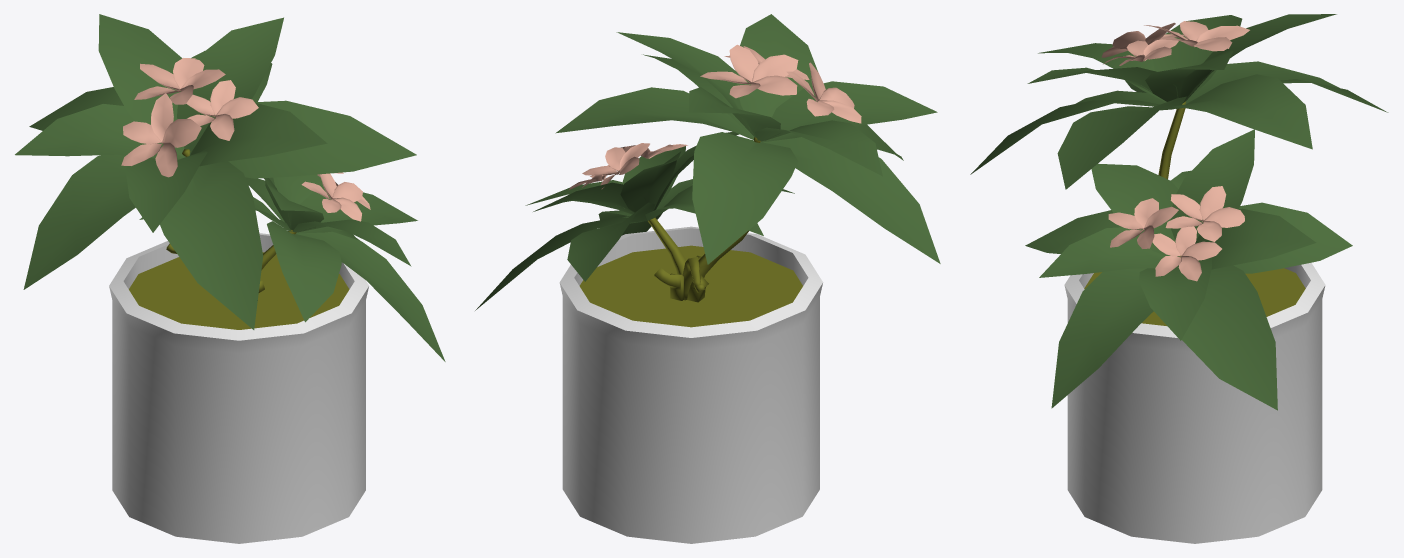
The model's file is plant2.glb.
3 views of the same model, side by side, from view 1: azimuth 30°, elevation 25°; view 2: azimuth 150°, elevation 25°; view 3: azimuth 270°, elevation 25° (orthographic).
Parts seen in each view (by area): view 1: Object_5, Object_4, Object_6, Object_3; view 2: Object_4, Object_5, Object_3, Object_6, Object_2; view 3: Object_5, Object_4, Object_6, Object_3, Object_2.
Boxes of the visible parts, <box> form: Object_5: <box>15,14,445,361</box>; Object_4: <box>109,233,368,543</box>; Object_6: <box>121,58,370,221</box>; Object_3: <box>129,252,349,329</box>; Object_4: <box>559,226,822,543</box>; Object_5: <box>475,14,940,310</box>; Object_3: <box>579,245,802,327</box>; Object_6: <box>569,44,861,189</box>; Object_2: <box>648,137,760,302</box>; Object_5: <box>970,14,1388,410</box>; Object_4: <box>1064,262,1325,543</box>; Object_6: <box>1101,21,1249,281</box>; Object_3: <box>1084,268,1305,325</box>; Object_2: <box>1158,101,1185,257</box>.
Bounding box in the file's own units: 0.8408 × 0.9115 × 0.755.
